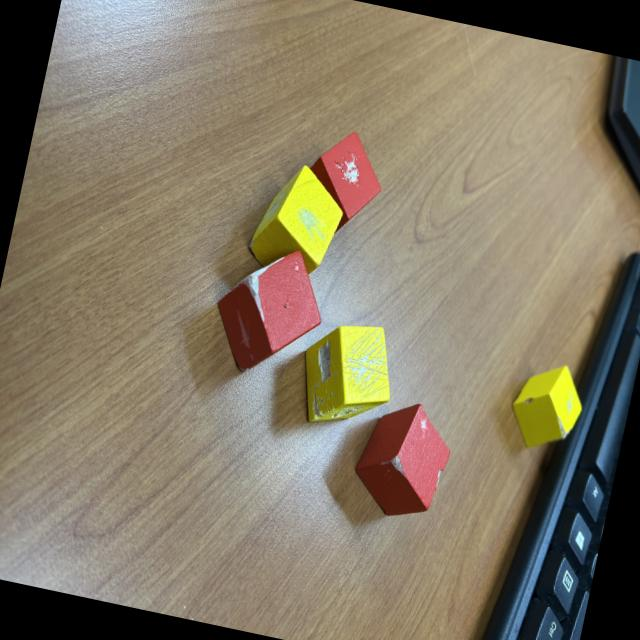broken: (206, 236, 334, 384), (347, 393, 458, 525), (243, 156, 351, 290), (292, 314, 403, 439), (290, 121, 392, 242), (502, 356, 590, 458)
